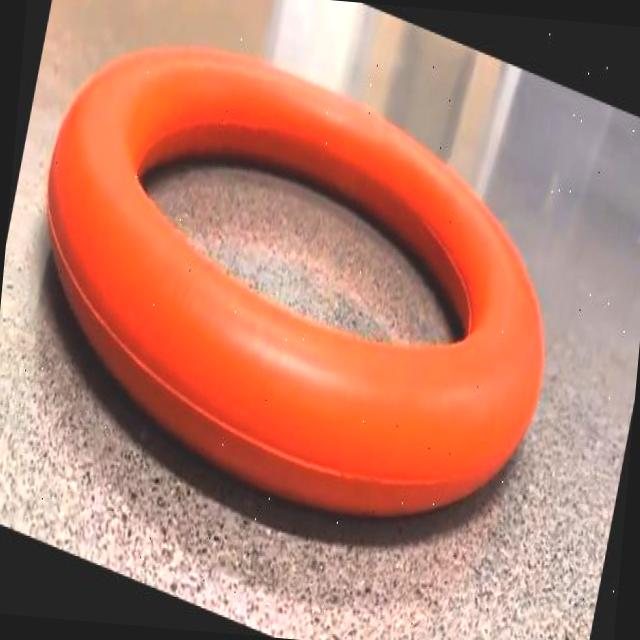note: (47, 48, 543, 514)
